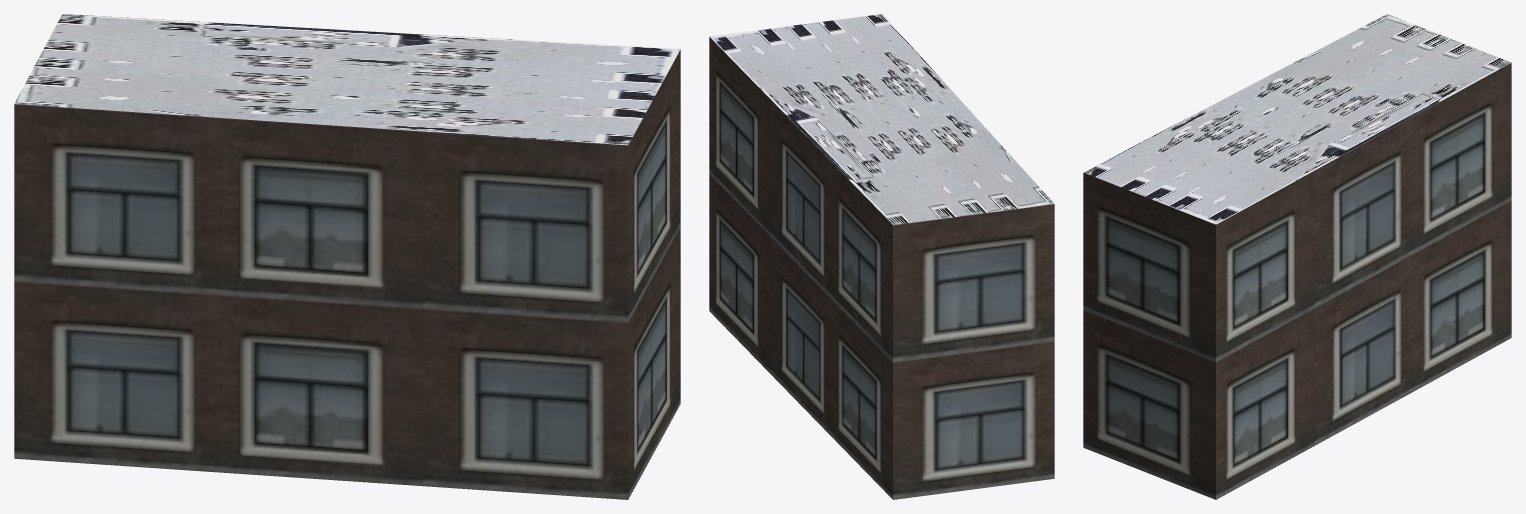
Rendered from ResTex__2330.fbx.
3 renders of one model, left to right at view 1: azimuth 30°, elevation 25°; view 2: azimuth 150°, elevation 25°; view 3: azimuth 270°, elevation 25°, orthographic. The views are drawn at different scales.
Parts seen in each view (by area): view 1: CityEngineMaterial_16_m, CityEngineMaterial_15_m; view 2: CityEngineMaterial_16_m, CityEngineMaterial_15_m; view 3: CityEngineMaterial_16_m, CityEngineMaterial_15_m.
Part boxes in pixels (x1,y1,x2,y2): CityEngineMaterial_16_m: (14,50,680,499); CityEngineMaterial_15_m: (14,14,680,145); CityEngineMaterial_16_m: (709,37,1054,499); CityEngineMaterial_15_m: (709,14,1054,225); CityEngineMaterial_16_m: (1083,63,1511,499); CityEngineMaterial_15_m: (1083,14,1511,224).
Size of the model in its own units: 9.85 by 6 by 8.47.
2 materials, 2 textured.
